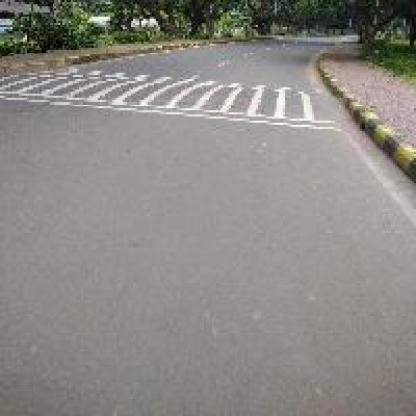Speed Bump: (0, 71, 339, 129)
